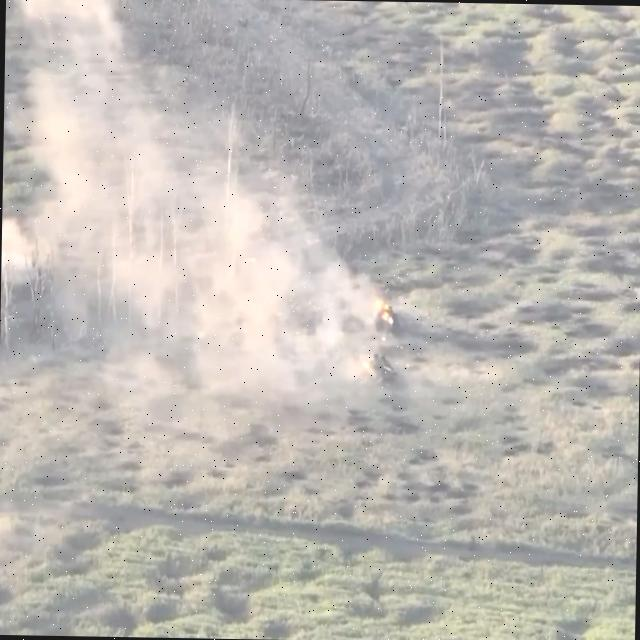MBT: (371, 303, 402, 336)
